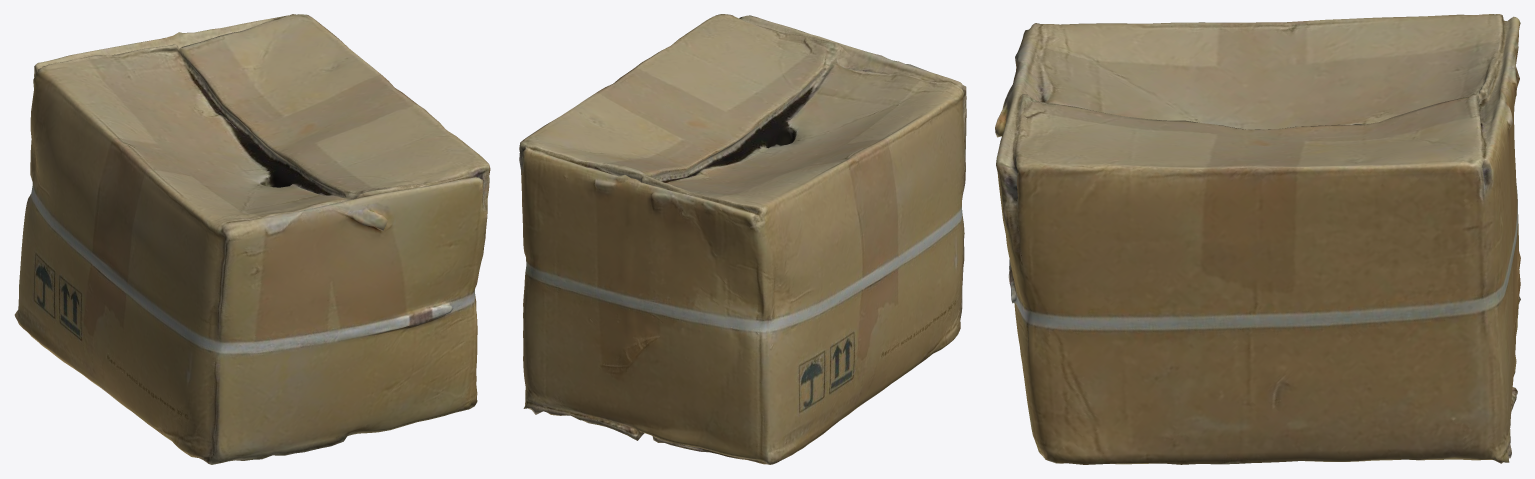
The model's file is cardboard_box_01.glb.
3 renders of one model, left to right at view 1: azimuth 30°, elevation 25°; view 2: azimuth 150°, elevation 25°; view 3: azimuth 270°, elevation 25°, orthographic. The views are drawn at different scales.
Parts seen in each view (by area): view 1: cardboard_box_01; view 2: cardboard_box_01; view 3: cardboard_box_01.
Boxes of the visible parts, bbox=[...] form: cardboard_box_01: bbox=[14, 14, 490, 464]; cardboard_box_01: bbox=[519, 14, 966, 464]; cardboard_box_01: bbox=[995, 14, 1520, 464].
Size of the model in its own units: 0.387 by 0.3418 by 0.5159.
1 material, 1 textured.
